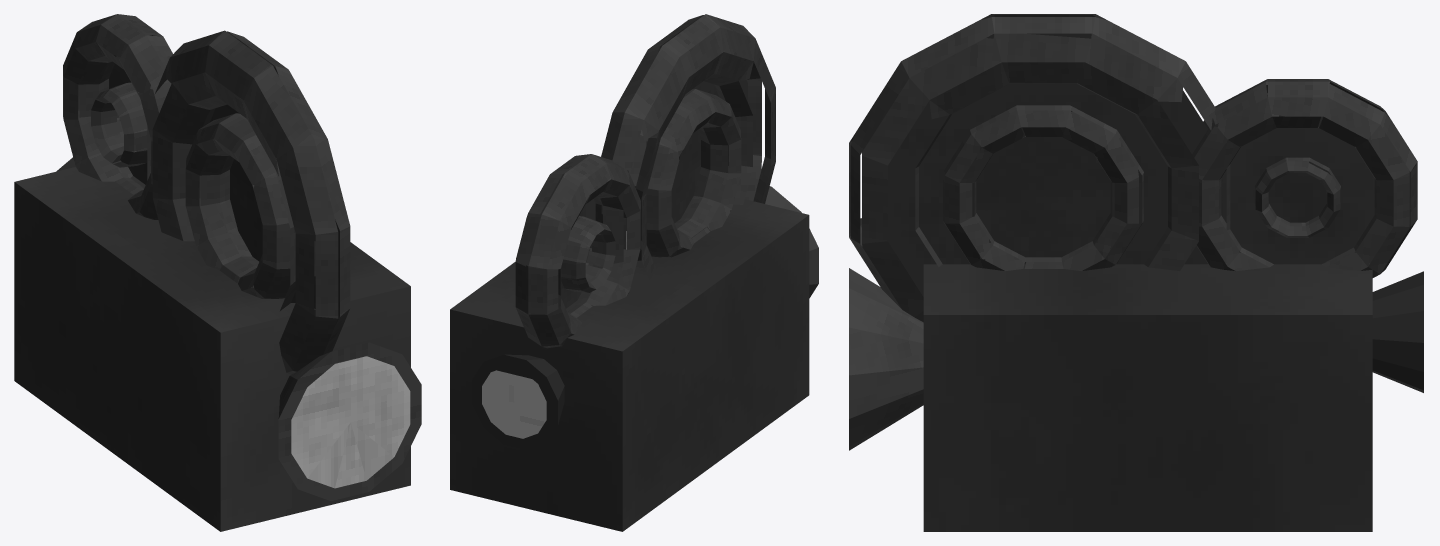
File: camera.glb
3 renders of one model, left to right at view 1: azimuth 30°, elevation 25°; view 2: azimuth 150°, elevation 25°; view 3: azimuth 270°, elevation 25°, orthographic. The views are drawn at different scales.
Visible parts, largest first — view 1: cube, torus.002, torus.003, cone.003, torus, cone, torus.001, circle, circle.001; view 2: cube, torus.002, torus, torus.003, cone.002, cone.001, torus.001, circle, cone, circle.001; view 3: cube, torus.002, circle, torus, torus.003, circle.001, cone, cone.002, torus.001.
Boxes of the visible parts, x1,y1,x2,y2 form: cube: (14,167,410,531); torus.002: (147,30,350,374); torus.003: (185,113,290,298); cone.003: (291,356,410,488); torus: (63,14,172,219); cone: (278,342,421,500); torus.001: (91,82,147,167); circle: (208,67,339,324); circle.001: (98,35,154,184); cube: (450,199,809,531); torus.002: (595,14,775,279); torus: (515,154,640,348); torus.003: (635,89,741,257); cone.002: (472,354,564,450); cone.001: (482,370,546,438); torus.001: (561,216,615,292); circle: (657,47,747,223); cone: (765,186,818,298); circle.001: (520,173,595,308); cube: (923,264,1372,531); torus.002: (849,14,1230,322); circle: (888,34,1222,296); torus: (1192,79,1417,277); torus.003: (943,105,1143,270); circle.001: (1214,95,1409,264); cone: (849,268,923,450); cone.002: (1372,271,1423,392); torus.001: (1254,157,1340,237).
Bounding box in the file's own units: 1 × 2.12 × 2.41.
Materials: 2 (2 with a texture image).
